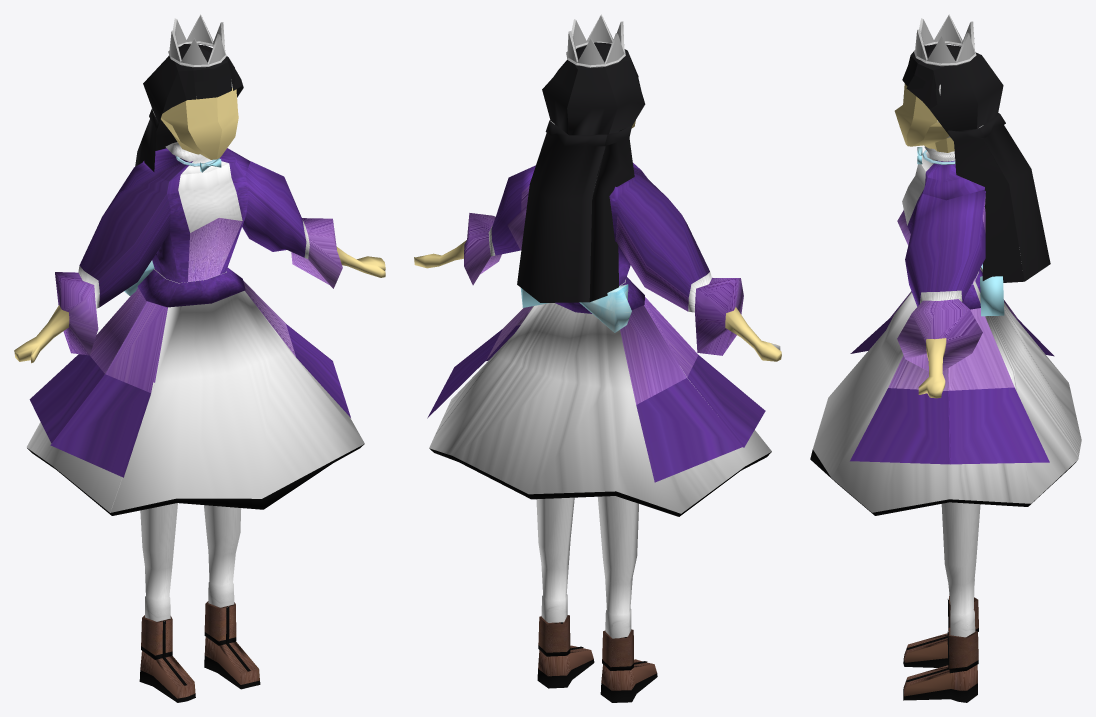
The model's file is princess_fin.fbx.
The picture shows the model from 3 angles, left to right: view 1: azimuth 30°, elevation 25°; view 2: azimuth 150°, elevation 25°; view 3: azimuth 270°, elevation 25°; orthographic projection.
Visible parts, largest first — view 1: Cube.001; view 2: Cube.001; view 3: Cube.001.
Boxes of the visible parts, x1,y1,x2,y2 form: Cube.001: (14,14,385,702); Cube.001: (414,14,781,702); Cube.001: (810,14,1081,702).
Size of the model in its own units: 214 by 366 by 138.
